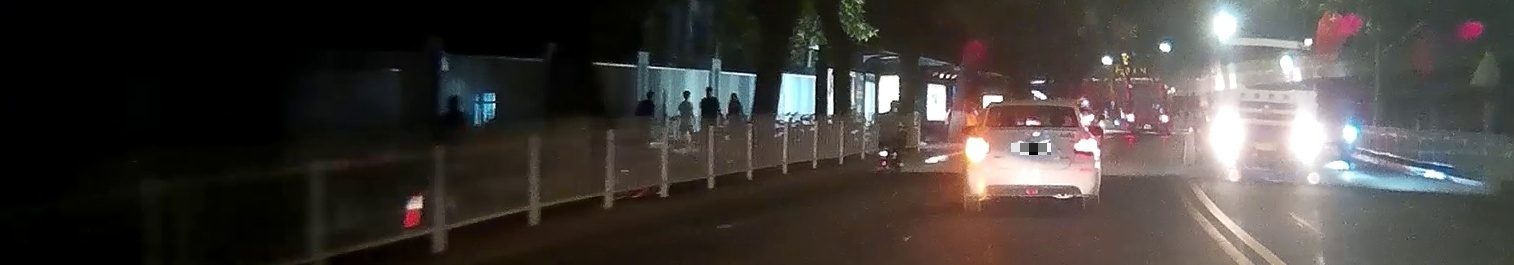L_light: (965, 138, 989, 154)
R_light: (1074, 137, 1099, 154)
T_light: (1016, 120, 1042, 125)
night-left: (962, 99, 1102, 213)
plate_1: (1011, 143, 1051, 155)
